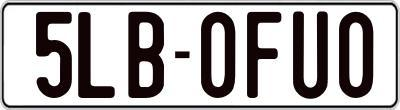0: (336, 12, 375, 98), (198, 12, 233, 102)
5: (33, 12, 71, 100)
B: (128, 10, 167, 101)
F: (244, 12, 278, 100)
L: (77, 12, 117, 100)
U: (291, 9, 331, 102)
